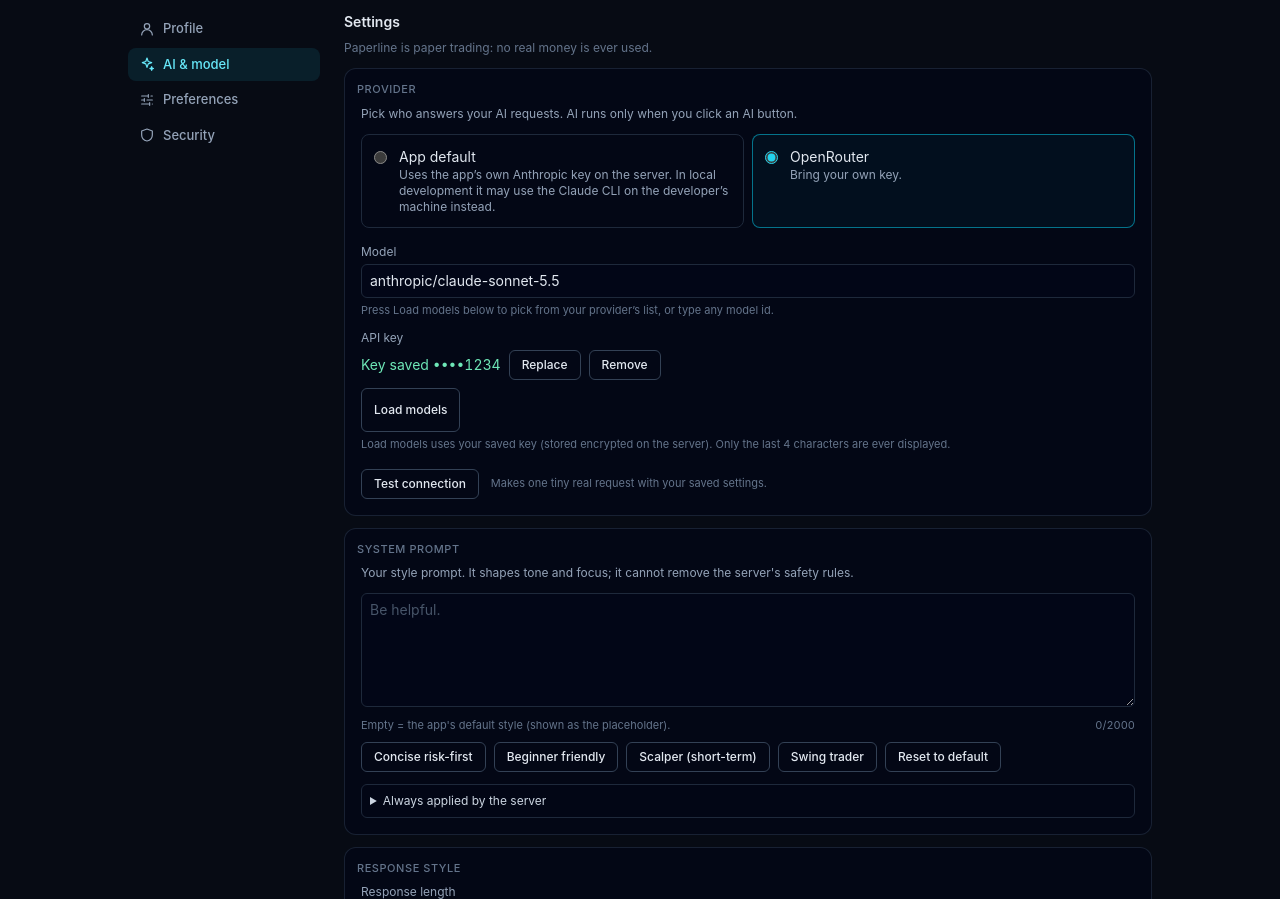
Scenario: AI provider: load models › a successful Test also fills the list (no second request)
Click the button "Test connection".
click(420, 484)  # box [361, 468, 479, 498]
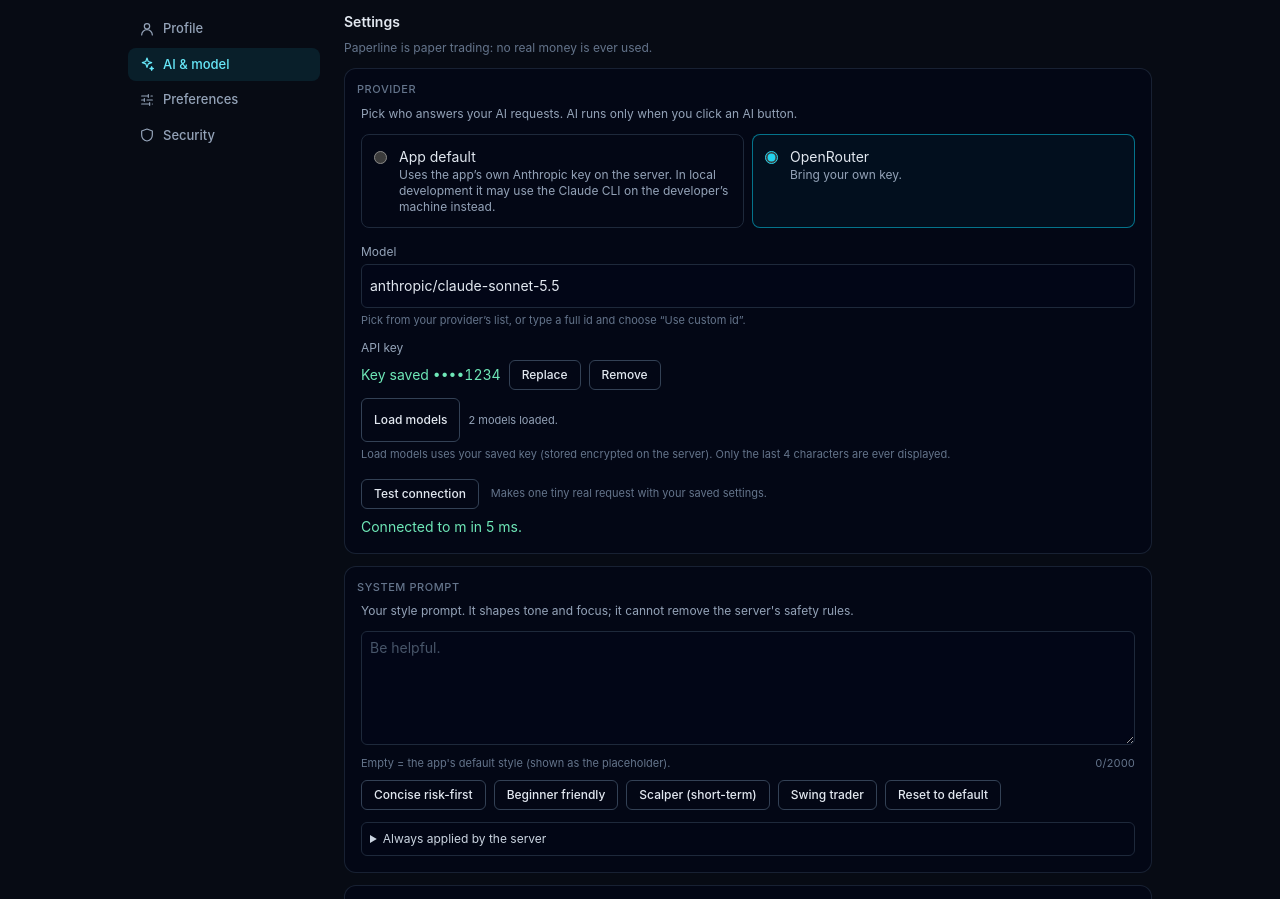
Expected: the text "2 models loaded." is shown, [468, 412, 558, 428]
